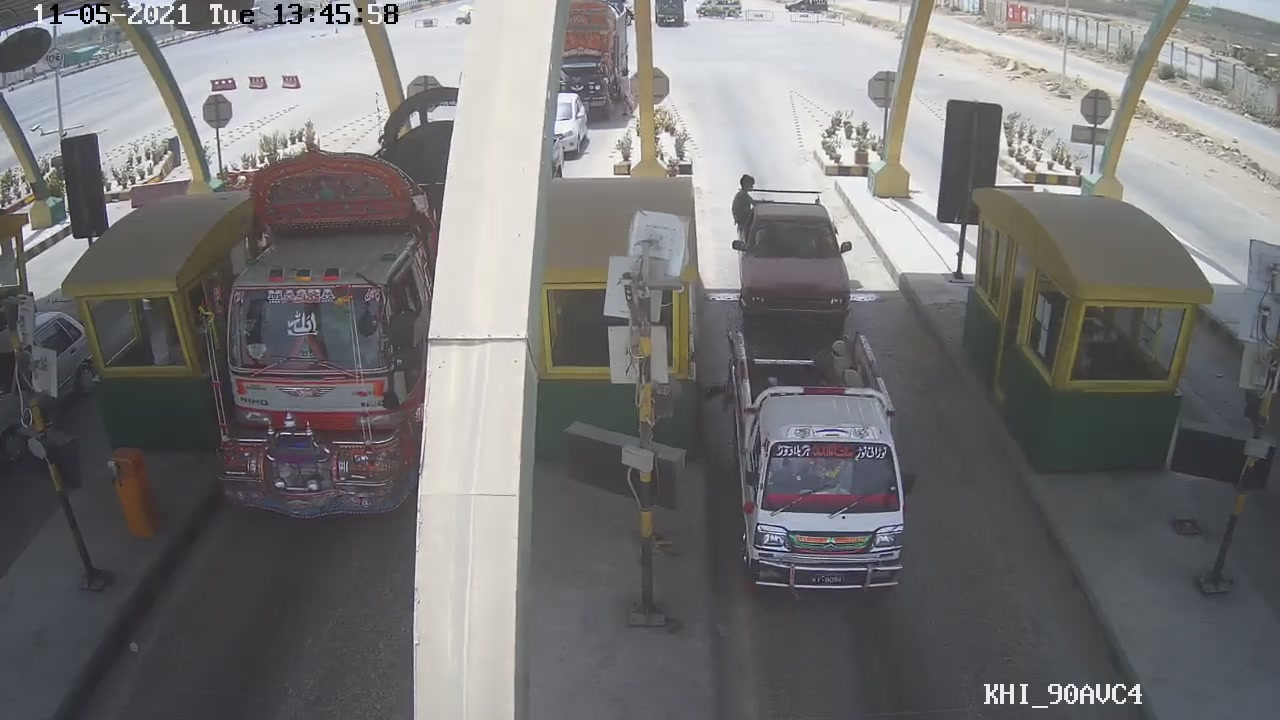F1: (712, 327, 922, 613), (719, 173, 862, 326)
